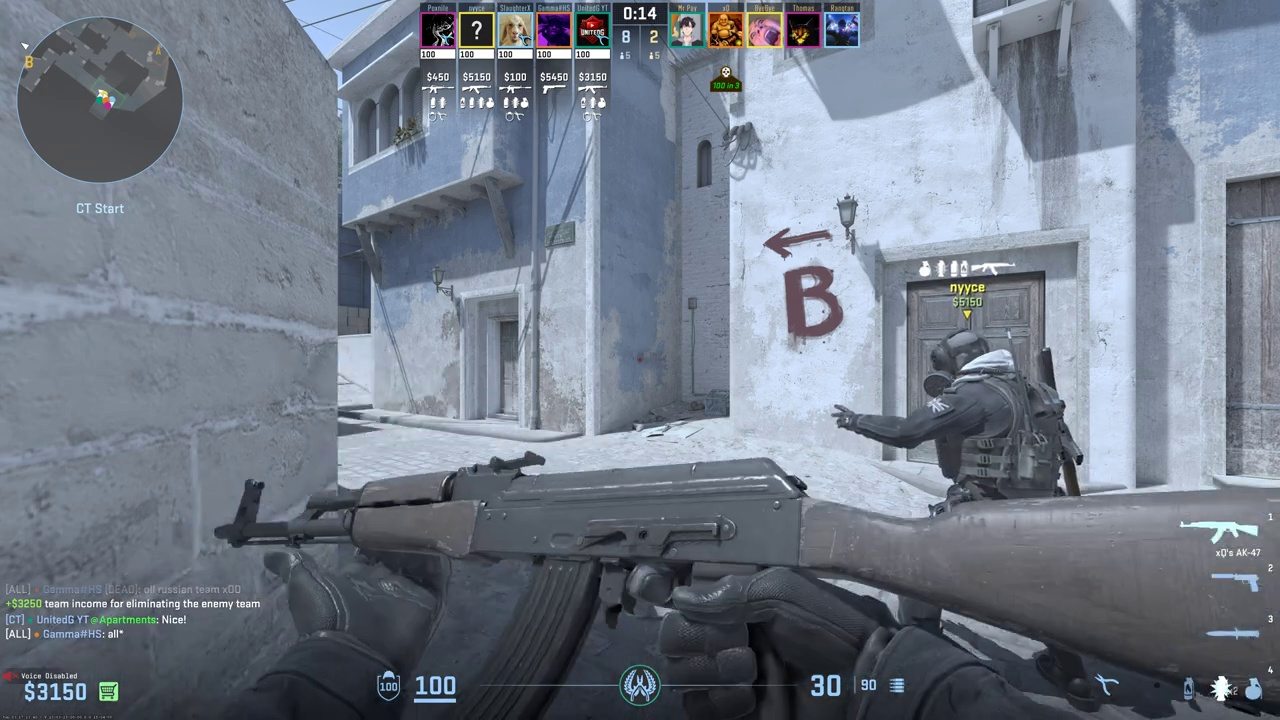CT: (922, 329, 1059, 504)
